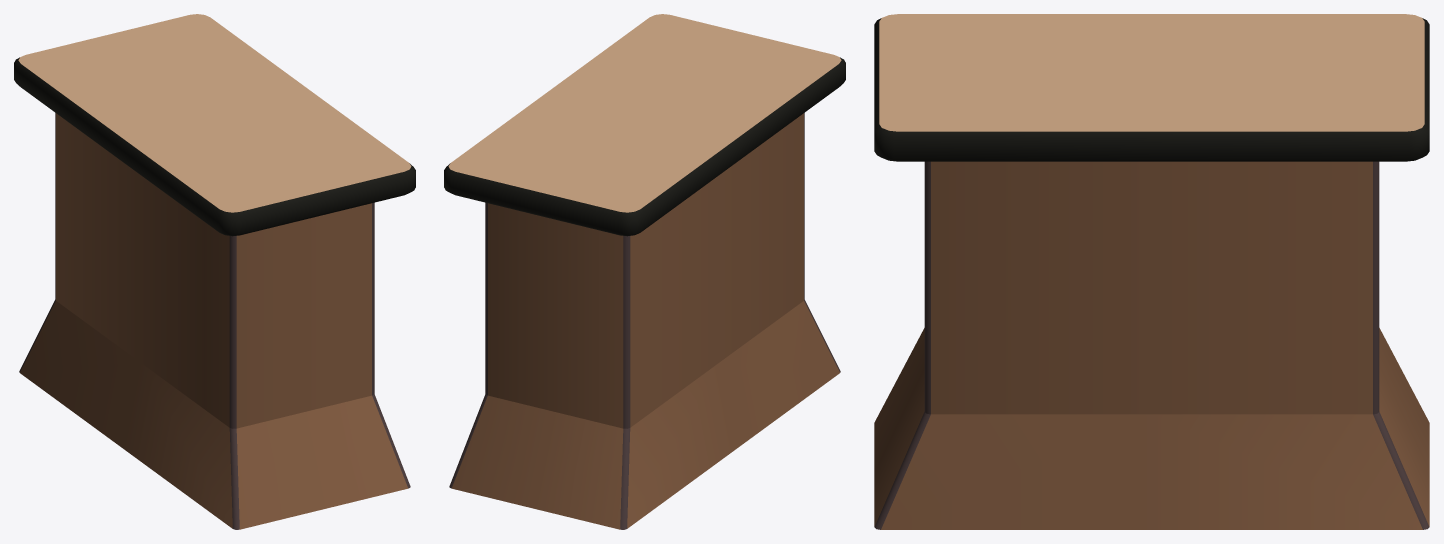
The model's file is OT_179_small_display_table_var1.glb.
3 views of the same model, side by side, from view 1: azimuth 30°, elevation 25°; view 2: azimuth 150°, elevation 25°; view 3: azimuth 270°, elevation 25° (orthographic). The views are drawn at different scales.
Parts seen in each view (by area): view 1: display_table; view 2: display_table; view 3: display_table.
Boxes of the visible parts, box(x1,y1,x2,y2) form: display_table: box(14, 14, 415, 529); display_table: box(444, 14, 845, 529); display_table: box(874, 14, 1429, 529).
Bounding box in the file's own units: 0.7279 × 1.13 × 1.41.
